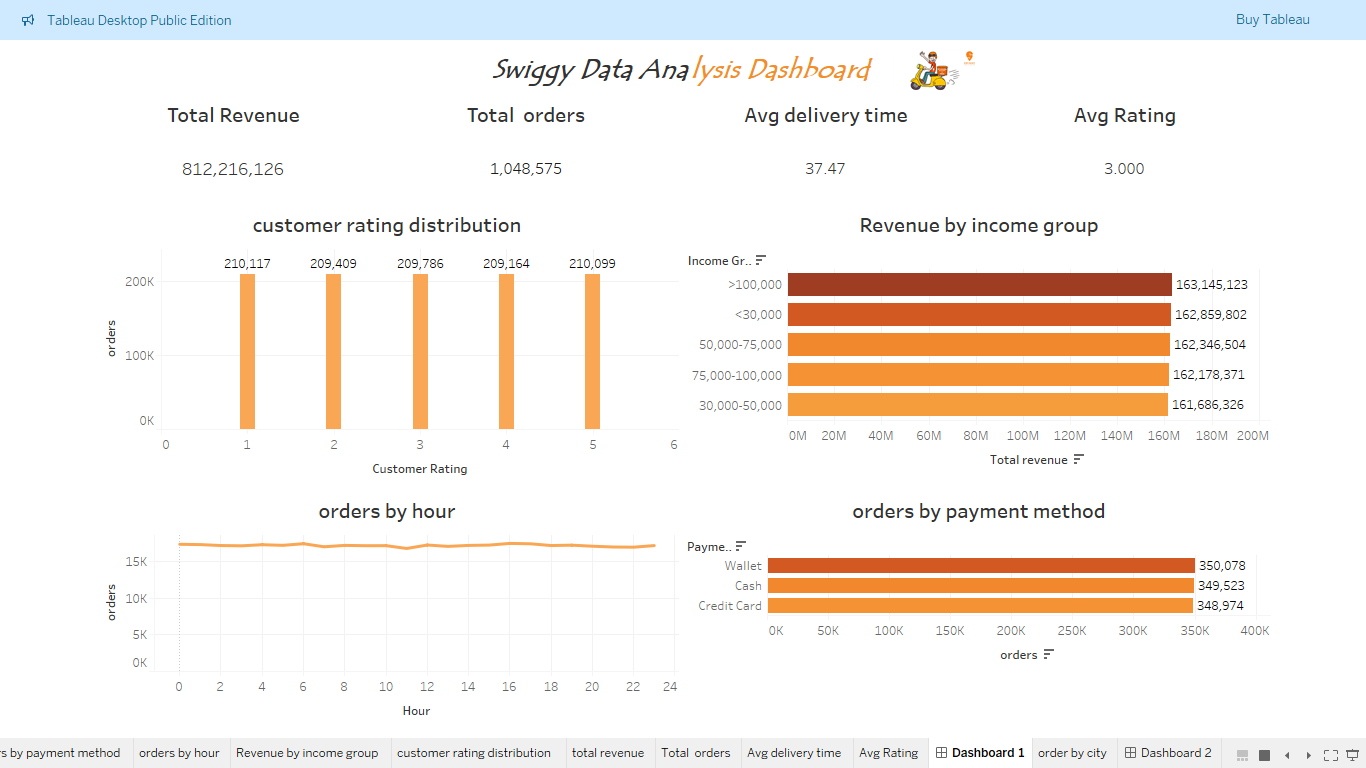

This screenshot's page, from the dashboard's own definition file:
{"tool":"tableau","page":{"name":"Dashboard 1","canvas":[1000,1000],"units":"permille","ordinal":0},"visuals":[{"type":"image","param":"C:/Users/ACER/Downloads/Swiggy-logo-500x281.png","box":[284.9,12.7,65.8,72.5]},{"type":"title","box":[6.9,14.5,986.1,79.7]},{"type":"image","param":"C:/Users/ACER/Downloads/swiggy-696x348.jpg","box":[648.5,14.5,71,74.3]},{"type":"worksheet","title":"total revenue","mark":"Automatic","box":[6.9,94.2,246.8,154.3]},{"type":"worksheet","title":"Total  orders","mark":"Automatic","box":[253.7,94.2,246.5,154.3]},{"type":"worksheet","title":"Avg delivery time","mark":"Automatic","box":[500.2,94.2,246.5,154.3]},{"type":"worksheet","title":"Avg Rating","mark":"Automatic","box":[746.6,94.2,246.5,154.3]},{"type":"worksheet","title":"customer rating distribution","mark":"Bar","rows":["Calculation_6527967719073775616"],"cols":["Customer_Rating"],"box":[6.9,248.5,493.1,399.4]},{"type":"worksheet","title":"Revenue by income group","mark":"Automatic","rows":["Income_Group"],"cols":["Calculation_6527967719074013185"],"box":[500,248.5,493.1,399.4]},{"type":"worksheet","title":"orders by hour","mark":"Line","rows":["Calculation_6527967719073775616"],"cols":["Hour"],"box":[6.9,647.9,493.1,337.6]},{"type":"worksheet","title":"orders by payment method","mark":"Bar","rows":["Payment_Method"],"cols":["Calculation_6527967719073775616"],"box":[500,647.9,493.1,337.6]}]}

Visuals, with their boxes on the dashboard's canvas, which has no fixed pixel size, in thousandths of its width and height (x1, y1, x2, y2). These are canvas units, not pixel positions in the 1366x768 screenshot, which may show the page scaled, cropped or inside an application window:
image: {"x1": 285, "y1": 13, "x2": 351, "y2": 85}
title: {"x1": 7, "y1": 14, "x2": 993, "y2": 94}
image: {"x1": 648, "y1": 14, "x2": 720, "y2": 89}
"total revenue" worksheet: {"x1": 7, "y1": 94, "x2": 254, "y2": 248}
"Total  orders" worksheet: {"x1": 254, "y1": 94, "x2": 500, "y2": 248}
"Avg delivery time" worksheet: {"x1": 500, "y1": 94, "x2": 747, "y2": 248}
"Avg Rating" worksheet: {"x1": 747, "y1": 94, "x2": 993, "y2": 248}
"customer rating distribution" worksheet (Bar marks): {"x1": 7, "y1": 248, "x2": 500, "y2": 648}
"Revenue by income group" worksheet: {"x1": 500, "y1": 248, "x2": 993, "y2": 648}
"orders by hour" worksheet (Line marks): {"x1": 7, "y1": 648, "x2": 500, "y2": 986}
"orders by payment method" worksheet (Bar marks): {"x1": 500, "y1": 648, "x2": 993, "y2": 986}
